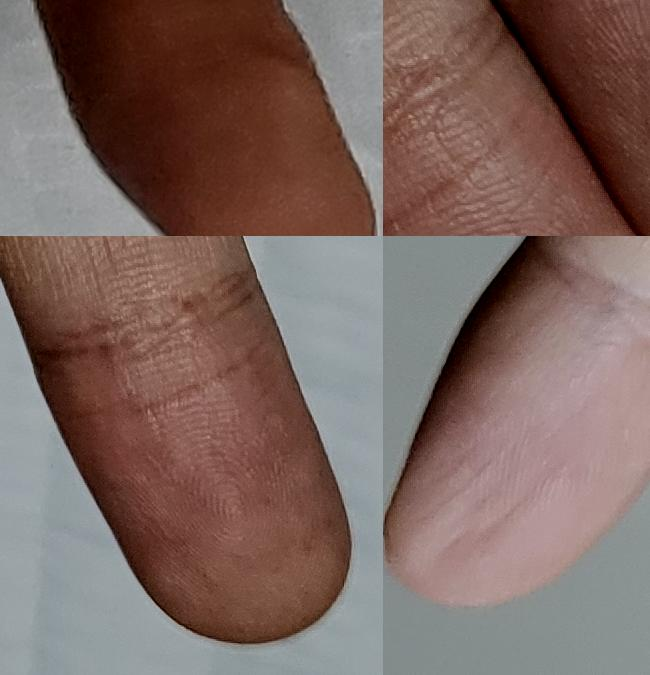Fingerprints: (32, 282, 352, 646), (383, 260, 650, 605), (47, 0, 377, 236), (383, 25, 634, 236)
